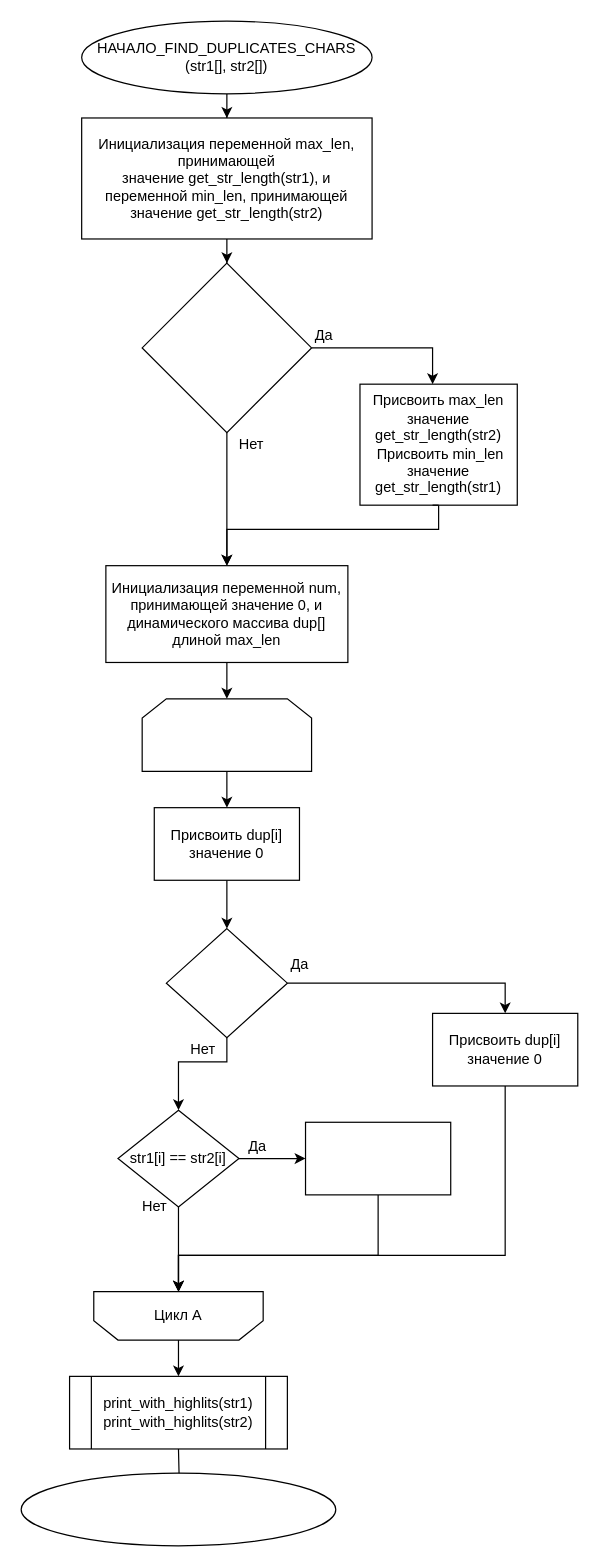
This 599x1567 diagram has some shape labels left out. Here are the shapes that lost their labels. From the top down, the box of each, then its label:
(141, 262, 312, 433): get_str_length(str2) > max_len
(141, 698, 312, 771): Цикл А: по i от 0 до max_length
(165, 927, 287, 1038): i > = min_len
(304, 1121, 451, 1195): Присвоить dup[i] значение 1, увеличить num на 1
(20, 1472, 336, 1546): КОНЕЦ_FIND_DUPLICATES_CHARS
